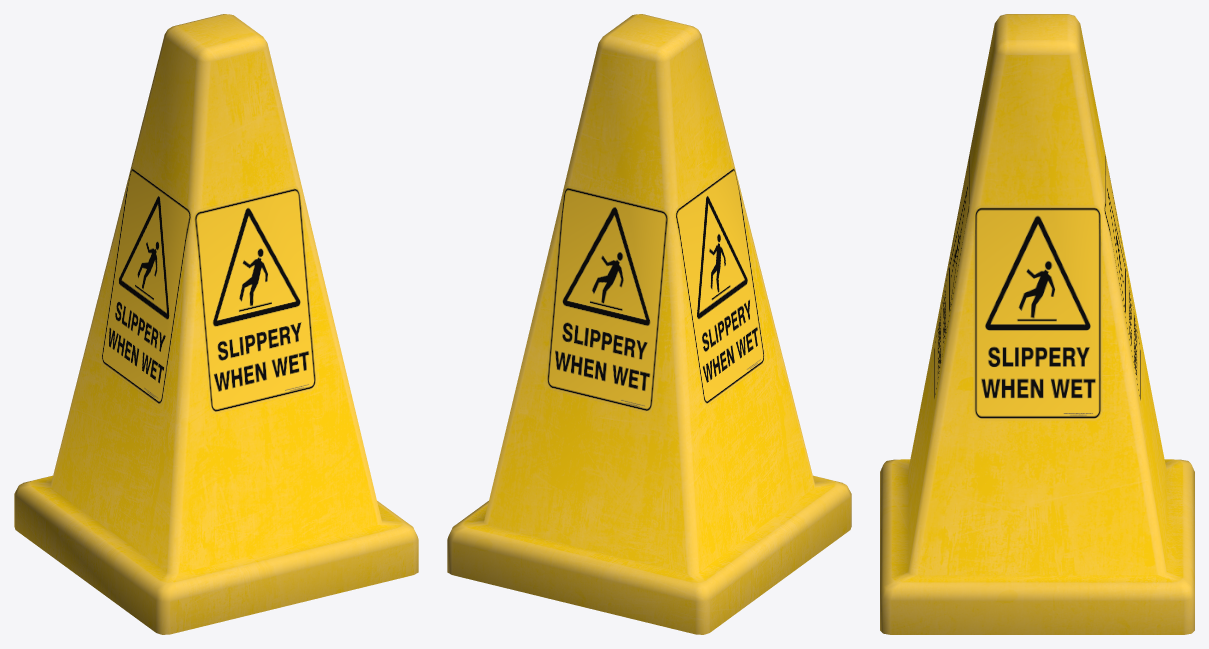
File: Bathroom_Maintenance_HazardCone.fbx
3 renders of one model, left to right at view 1: azimuth 30°, elevation 25°; view 2: azimuth 150°, elevation 25°; view 3: azimuth 270°, elevation 25°, orthographic. The views are drawn at different scales.
Visible parts, largest first — view 1: Hazard; view 2: Hazard; view 3: Hazard.
Part boxes in pixels (bbox=[...]): Hazard: bbox=[14, 14, 418, 634]; Hazard: bbox=[447, 14, 851, 634]; Hazard: bbox=[880, 14, 1194, 634].
Size of the model in its own units: 33.27 by 63.09 by 33.27.
1 material, 1 textured.
